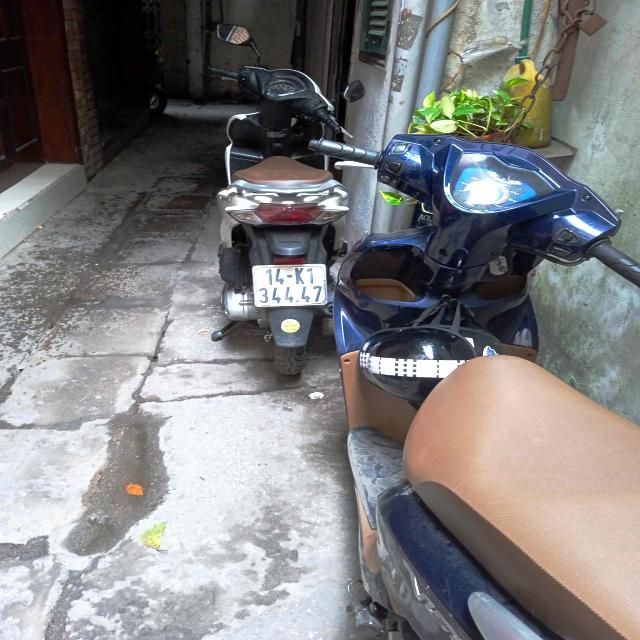license_plate: (248, 261, 333, 310)
